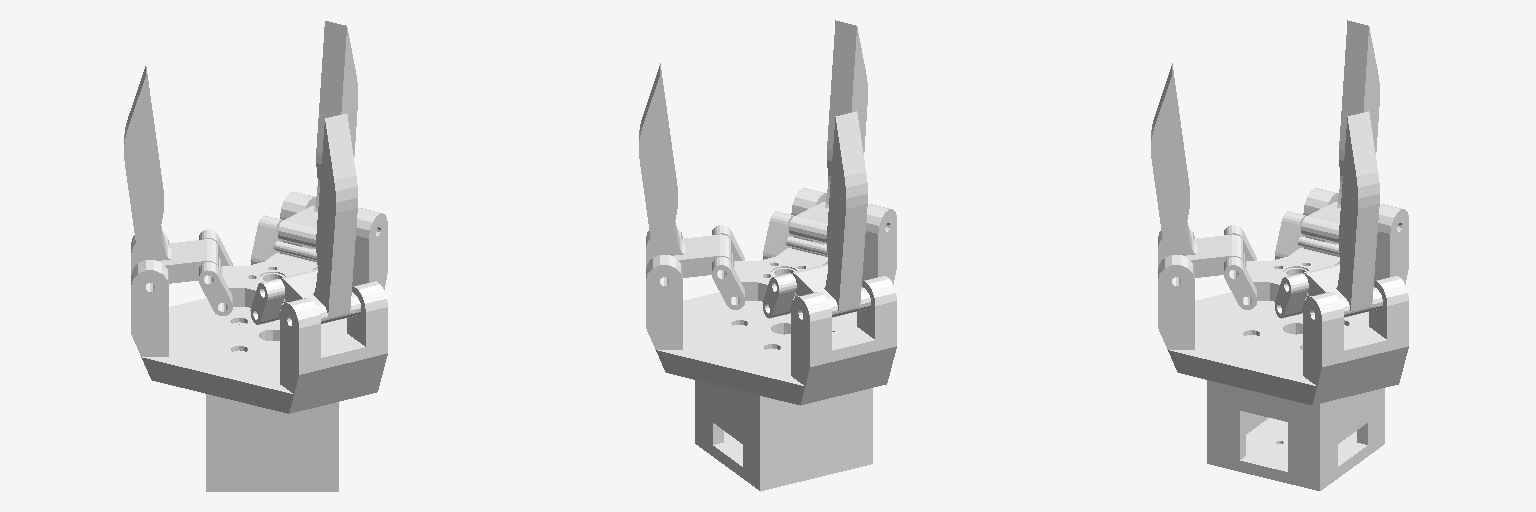
robot.urdf — threefingerv7:
<?xml version="1.0" encoding="utf-8"?>
<!-- This URDF was automatically created by SolidWorks to URDF Exporter! Originally created by [author] ([email redacted]) 
     Commit Version: 1.6.0-4-g7f85cfe  Build Version: 1.6.7995.38578
     For more information, please see http://wiki.ros.org/sw_urdf_exporter -->
<robot
  name="threefingerv7">
  <link name="root">
    <inertial>
      <mass value="0.01"/>
      <inertia ixx="1e-4" ixy="0.0" ixz="0.0" iyy="1e-4" iyz="0.0" izz="1e-4"/>
    </inertial>
  </link>
  <link name="root1">
    <inertial>
      <mass value="0.01"/>
      <inertia ixx="1e-4" ixy="0.0" ixz="0.0" iyy="1e-4" iyz="0.0" izz="1e-4"/>
    </inertial>
  </link>
  <link name="root2">
    <inertial>
      <mass value="0.01"/>
      <inertia ixx="1e-4" ixy="0.0" ixz="0.0" iyy="1e-4" iyz="0.0" izz="1e-4"/>
    </inertial>
  </link>
  <link name="root3">
    <inertial>
      <mass value="0.01"/>
      <inertia ixx="1e-4" ixy="0.0" ixz="0.0" iyy="1e-4" iyz="0.0" izz="1e-4"/>
    </inertial>
  </link>
  <link name="root4">
    <inertial>
      <mass value="0.01"/>
      <inertia ixx="1e-4" ixy="0.0" ixz="0.0" iyy="1e-4" iyz="0.0" izz="1e-4"/>
    </inertial>
  </link>
  <link name="root5">
    <inertial>
      <mass value="1"/>
      <inertia ixx="0.05" ixy="0.0" ixz="0.0" iyy="0.05" iyz="0.0" izz="0.05"/>
    </inertial>
  </link>
  <joint name="x_joint" type="prismatic">
    <parent link="root"/>
    <child link="root1"/>
    <axis xyz="1 0 0"/>
    <limit lower="-10" upper="10"/>
  </joint>
  <joint name="y_joint" type="prismatic">
    <parent link="root1"/>
    <child link="root2"/>
    <axis xyz="0 1 0"/>
    <limit lower="-10" upper="10"/>
  </joint>
  <joint name="z_joint" type="prismatic">
    <parent link="root2"/>
    <child link="root3"/>
    <axis xyz="0 0 1"/>
    <limit lower="-10" upper="10"/>
  </joint>
  <joint name="x_rotation_joint" type="continuous">
    <parent link="root3"/>
    <child link="root4"/>
    <axis xyz="1 0 0"/>
  </joint>
  <joint name="y_rotation_joint" type="continuous">
    <parent link="root4"/>
    <child link="root5"/>
    <axis xyz="0 1 0"/>
  </joint>
  <joint name="z_rotation_joint" type="continuous">
    <parent link="root5"/>
    <child link="base_link"/>
    <axis xyz="0 0 1"/>
  </joint>

  <link
    name="base_link">
    <inertial>
      <origin
        xyz="-0.000400704444301246 2.53834015733273E-05 -0.00850922709249782"
        rpy="0 0 0" />
      <mass
        value="0.158098732405424" />
      <inertia
        ixx="0.000154350646624654"
        ixy="-2.77272753195956E-07"
        ixz="-2.27161818492852E-06"
        iyy="0.000154004906445453"
        iyz="-7.99058211216347E-09"
        izz="0.000217118434161234" />
    </inertial>
    <visual>
      <origin
        xyz="0 0 0"
        rpy="0 0 0" />
      <geometry>
        <mesh
          filename="package://threefingerv7/meshes/base_link.STL" />
      </geometry>
      <material
        name="">
        <color
          rgba="1 1 1 1" />
      </material>
    </visual>
    <collision>
      <origin
        xyz="0 0 0"
        rpy="0 0 0" />
      <geometry>
        <mesh
          filename="package://threefingerv7/meshes/base_link.STL" />
      </geometry>
    </collision>
  </link>
  <link
    name="move_link">
    <inertial>
      <origin
        xyz="-1.38840313242298E-18 1.1767319360884E-17 -0.00419243214234177"
        rpy="0 0 0" />
      <mass
        value="0.0085021271877303" />
      <inertia
        ixx="9.76418874057016E-07"
        ixy="-1.05879118406788E-22"
        ixz="3.53801734527502E-23"
        iyy="9.7641887405701E-07"
        iyz="5.4830223945276E-23"
        izz="1.86965817859979E-06" />
    </inertial>
    <visual>
      <origin
        xyz="0 0 0"
        rpy="0 0 0" />
      <geometry>
        <mesh
          filename="package://threefingerv7/meshes/move_link.STL" />
      </geometry>
      <material
        name="">
        <color
          rgba="1 1 1 1" />
      </material>
    </visual>
    <collision>
      <origin
        xyz="0 0 0"
        rpy="0 0 0" />
      <geometry>
        <mesh
          filename="package://threefingerv7/meshes/move_link.STL" />
      </geometry>
    </collision>
  </link>
  <joint
    name="move_joint"
    type="prismatic">
    <origin
      xyz="0 0 0.025087"
      rpy="0 0 0" />
    <parent
      link="base_link" />
    <child
      link="move_link" />
    <axis
      xyz="0 0 -1" />
    <limit
      lower="-0.01"
      upper="0.02"
      effort="5000"
      velocity="2" />
  </joint>
  <link
    name="11_link">
    <inertial>
      <origin
        xyz="-0.0064999999999939 -5.07406616723216E-15 0.015"
        rpy="0 0 0" />
      <mass
        value="0.0023425840131754" />
      <inertia
        ixx="4.99013749037845E-07"
        ixy="1.32348898008484E-23"
        ixz="-7.74228380420826E-24"
        iyy="5.48312815441792E-07"
        iyz="-4.68478650567877E-23"
        izz="7.32310540795453E-08" />
    </inertial>
    <visual>
      <origin
        xyz="0 0 0"
        rpy="0 0 0" />
      <geometry>
        <mesh
          filename="package://threefingerv7/meshes/11_link.STL" />
      </geometry>
      <material
        name="">
        <color
          rgba="1 1 1 1" />
      </material>
    </visual>
    <collision>
      <origin
        xyz="0 0 0"
        rpy="0 0 0" />
      <geometry>
        <mesh
          filename="package://threefingerv7/meshes/11_link.STL" />
      </geometry>
    </collision>
  </link>
  <joint
    name="11_joint"
    type="revolute">
    <origin
      xyz="-0.0093875 0.02274 -0.004"
      rpy="1.5708 1.1355 -0.5236" />
    <parent
      link="move_link" />
    <child
      link="11_link" />
    <axis
      xyz="0 0 -1" />
    <limit
      lower="-1.57"
      upper="1.57"
      effort="5000"
      velocity="2" />
    <!-- <mimic
      joint="move_joint"
      multiplier="-35"
      offset="0" /> -->
  </joint>
  <!-- <link
    name="12_link">
    <inertial>
      <origin
        xyz="-0.0293208969248166 -0.00876107376233067 0.0190000001135646"
        rpy="0 0 0" />
      <mass
        value="0.0122579255984349" />
      <inertia
        ixx="9.84660892016069E-07"
        ixy="1.31799544484654E-06"
        ixz="-2.57676349373328E-14"
        iyy="7.20160465350243E-06"
        iyz="1.09652704731506E-14"
        izz="7.77283391142852E-06" />
    </inertial>
    <visual>
      <origin
        xyz="0 0 0"
        rpy="0 0 0" />
      <geometry>
        <mesh
          filename="package://threefingerv7/meshes/12_link.STL" />
      </geometry>
      <material
        name="">
        <color
          rgba="1 1 1 1" />
      </material>
    </visual>
    <collision>
      <origin
        xyz="0 0 0"
        rpy="0 0 0" />
      <geometry>
        <mesh
          filename="package://threefingerv7/meshes/12_link.STL" />
      </geometry>
    </collision>
  </link> -->
  <!-- <joint
    name="12_joint"
    type="revolute">
    <origin
      xyz="-0.013 0 -0.004"
      rpy="0 0 0" />
    <parent
      link="11_link" />
    <child
      link="12_link" />
    <axis
      xyz="0 0 -1" />
    <limit
      lower="-1.57"
      upper="1.57"
      effort="5000"
      velocity="2" />
    <mimic
      joint="11_joint"
      multiplier="1"
      offset="0" />
  </joint> -->
  <link
    name="21_link">
    <inertial>
      <origin
        xyz="0.00649999999999391 -5.00901403688303E-15 -0.019"
        rpy="0 0 0" />
      <mass
        value="0.0023425840131754" />
      <inertia
        ixx="4.99013749037844E-07"
        ixy="-5.9557004103818E-23"
        ixz="-1.3648480107125E-22"
        iyy="5.48312815441791E-07"
        iyz="-8.27180612553028E-24"
        izz="7.32310540795452E-08" />
    </inertial>
    <visual>
      <origin
        xyz="0 0 0"
        rpy="0 0 0" />
      <geometry>
        <mesh
          filename="package://threefingerv7/meshes/21_link.STL" />
      </geometry>
      <material
        name="">
        <color
          rgba="1 1 1 1" />
      </material>
    </visual>
    <collision>
      <origin
        xyz="0 0 0"
        rpy="0 0 0" />
      <geometry>
        <mesh
          filename="package://threefingerv7/meshes/21_link.STL" />
      </geometry>
    </collision>
  </link>
  <joint
    name="21_joint"
    type="revolute">
    <origin
      xyz="-0.019 -0.0195 -0.004"
      rpy="1.5708 -1.1355 -1.5708" />
    <parent
      link="move_link" />
    <child
      link="21_link" />
    <axis
      xyz="0 0 1" />
    <limit
      lower="-1.57"
      upper="1.57"
      effort="5000"
      velocity="2" />
    <!-- <mimic
      joint="move_joint"
      multiplier="-35"
      offset="0" /> -->
  </joint>
  <!-- <link
    name="22_link">
    <inertial>
      <origin
        xyz="0.0293216343766863 -0.00876108435078396 -0.0190000103494336"
        rpy="0 0 0" />
      <mass
        value="0.0122572499897457" />
      <inertia
        ixx="9.84650226311451E-07"
        ixy="-1.31798330895562E-06"
        ixz="-1.09743409174181E-12"
        iyy="7.20145547037363E-06"
        iyz="3.4075082013164E-13"
        izz="7.77268089083732E-06" />
    </inertial>
    <visual>
      <origin
        xyz="0 0 0"
        rpy="0 0 0" />
      <geometry>
        <mesh
          filename="package://threefingerv7/meshes/22_link.STL" />
      </geometry>
      <material
        name="">
        <color
          rgba="1 1 1 1" />
      </material>
    </visual>
    <collision>
      <origin
        xyz="0 0 0"
        rpy="0 0 0" />
      <geometry>
        <mesh
          filename="package://threefingerv7/meshes/22_link.STL" />
      </geometry>
    </collision>
  </link> -->
  <!-- <joint
    name="22_joint"
    type="revolute">
    <origin
      xyz="0.013 0 0"
      rpy="0 0 0" />
    <parent
      link="21_link" />
    <child
      link="22_link" />
    <axis
      xyz="0 0 1" />
    <limit
      lower="-1.57"
      upper="1.57"
      effort="5000"
      velocity="2" />
    <mimic
      joint="21_joint"
      multiplier="1"
      offset="0" />
  </joint> -->
  <link
    name="31_link">
    <inertial>
      <origin
        xyz="-0.00649999999999392 -5.04370850640257E-15 0.019"
        rpy="0 0 0" />
      <mass
        value="0.0023425840131754" />
      <inertia
        ixx="4.99013749037845E-07"
        ixy="3.30872245021211E-24"
        ixz="2.23338765389317E-23"
        iyy="5.48312815441792E-07"
        iyz="2.15066959263787E-22"
        izz="7.32310540795452E-08" />
    </inertial>
    <visual>
      <origin
        xyz="0 0 0"
        rpy="0 0 0" />
      <geometry>
        <mesh
          filename="package://threefingerv7/meshes/31_link.STL" />
      </geometry>
      <material
        name="">
        <color
          rgba="1 1 1 1" />
      </material>
    </visual>
    <collision>
      <origin
        xyz="0 0 0"
        rpy="0 0 0" />
      <geometry>
        <mesh
          filename="package://threefingerv7/meshes/31_link.STL" />
      </geometry>
    </collision>
  </link>
  <joint
    name="31_joint"
    type="revolute">
    <origin
      xyz="0.026387 -0.0067045 -0.004"
      rpy="1.5708 1.1355 -2.618" />
    <parent
      link="move_link" />
    <child
      link="31_link" />
    <axis
      xyz="0 0 -1" />
    <limit
      lower="-1.57"
      upper="1.57"
      effort="5000"
      velocity="2" />
    <mimic
      joint="move_joint"
      multiplier="-35"
      offset="0" />
  </joint>
  <!-- <link
    name="32_link">
    <inertial>
      <origin
        xyz="0.0293216345242573 -0.00876108429611774 -0.0189999898761313"
        rpy="0 0 0" />
      <mass
        value="0.0122572498826079" />
      <inertia
        ixx="9.84650224489368E-07"
        ixy="-1.31798329819406E-06"
        ixz="1.04568287397069E-12"
        iyy="7.20145543798657E-06"
        iyz="-3.61695921355528E-13"
        izz="7.77268085824629E-06" />
    </inertial>
    <visual>
      <origin
        xyz="0 0 0"
        rpy="0 0 0" />
      <geometry>
        <mesh
          filename="package://threefingerv7/meshes/32_link.STL" />
      </geometry>
      <material
        name="">
        <color
          rgba="1 1 1 1" />
      </material>
    </visual>
    <collision>
      <origin
        xyz="0 0 0"
        rpy="0 0 0" />
      <geometry>
        <mesh
          filename="package://threefingerv7/meshes/32_link.STL" />
      </geometry>
    </collision>
  </link> -->
  <!-- <joint
    name="32_joint"
    type="revolute">
    <origin
      xyz="-0.013 0 0"
      rpy="3.1416 0 3.1416" />
    <parent
      link="31_link" />
    <child
      link="32_link" />
    <axis
      xyz="0 0 1" />
    <limit
      lower="-1.57"
      upper="1.57"
      effort="5000"
      velocity="2" />
    <mimic
      joint="31_joint"
      multiplier="1"
      offset="0" />
  </joint> -->
  <link
    name="12_link2">
    <inertial>
      <origin
        xyz="-0.0257672114540679 -0.00251198810799962 -0.0200000001135646"
        rpy="0 0 0" />
      <mass
        value="0.0122579255984349" />
      <inertia
        ixx="1.08217608123952E-06"
        ixy="1.5276940884221E-06"
        ixz="2.79885195806309E-14"
        iyy="7.10408946427898E-06"
        iyz="-9.22469868117888E-16"
        izz="7.77283391142852E-06" />
    </inertial>
    <visual>
      <origin
        xyz="0 0 0"
        rpy="0 0 0" />
      <geometry>
        <mesh
          filename="package://threefingerv7/meshes/12_link2.STL" />
      </geometry>
      <material
        name="">
        <color
          rgba="1 1 1 1" />
      </material>
    </visual>
    <collision>
      <origin
        xyz="0 0 0"
        rpy="0 0 0" />
      <geometry>
        <mesh
          filename="package://threefingerv7/meshes/12_link2.STL" />
      </geometry>
    </collision>
  </link>
  <joint
    name="12_joint2"
    type="revolute">
    <origin
      xyz="-0.031397 0.041221 0.03"
      rpy="1.0472 1.5708 2.093" />
    <parent
      link="base_link" />
    <child
      link="12_link2" />
    <axis
      xyz="0 0 -1" />
    <limit
      lower="-1.57"
      upper="1.57"
      effort="5000"
      velocity="2" />
    <!-- <mimic
      joint="move_joint"
      multiplier="-68"
      offset="0" /> -->
  </joint>
  <link
    name="22_link2">
    <inertial>
      <origin
        xyz="-0.0257678756757427 -0.00251166755075601 -0.0200000103494336"
        rpy="0 0 0" />
      <mass
        value="0.0122572499897457" />
      <inertia
        ixx="1.08215006735288E-06"
        ixy="1.52764894748895E-06"
        ixz="8.51419242627871E-13"
        iyy="7.1039556293322E-06"
        iyz="-7.71724029513573E-13"
        izz="7.77268089083732E-06" />
    </inertial>
    <visual>
      <origin
        xyz="0 0 0"
        rpy="0 0 0" />
      <geometry>
        <mesh
          filename="package://threefingerv7/meshes/22_link2.STL" />
      </geometry>
      <material
        name="">
        <color
          rgba="1 1 1 1" />
      </material>
    </visual>
    <collision>
      <origin
        xyz="0 0 0"
        rpy="0 0 0" />
      <geometry>
        <mesh
          filename="package://threefingerv7/meshes/22_link2.STL" />
      </geometry>
    </collision>
  </link>
  <joint
    name="22_joint2"
    type="revolute">
    <origin
      xyz="-0.02 -0.047801 0.03"
      rpy="3.1416 1.5708 0" />
    <parent
      link="base_link" />
    <child
      link="22_link2" />
    <axis
      xyz="0 0 -1" />
    <limit
      lower="-1.57"
      upper="1.57"
      effort="5000"
      velocity="2" />
    <!-- <mimic
      joint="move_joint"
      multiplier="-68"
      offset="0" /> -->
  </joint>
  <link
    name="32_link2">
    <inertial>
      <origin
        xyz="-0.0257678758326022 -0.00251166753809726 -0.0199999898761313"
        rpy="0 0 0" />
      <mass
        value="0.0122572498826079" />
      <inertia
        ixx="1.0821500683257E-06"
        ixy="1.52764894273758E-06"
        ixz="-7.9566191835571E-13"
        iyy="7.10395559415024E-06"
        iyz="7.68894483766018E-13"
        izz="7.77268085824629E-06" />
    </inertial>
    <visual>
      <origin
        xyz="0 0 0"
        rpy="0 0 0" />
      <geometry>
        <mesh
          filename="package://threefingerv7/meshes/32_link2.STL" />
      </geometry>
      <material
        name="">
        <color
          rgba="1 1 1 1" />
      </material>
    </visual>
    <collision>
      <origin
        xyz="0 0 0"
        rpy="0 0 0" />
      <geometry>
        <mesh
          filename="package://threefingerv7/meshes/32_link2.STL" />
      </geometry>
    </collision>
  </link>
  <joint
    name="32_joint2"
    type="revolute">
    <origin
      xyz="0.051397 0.0065801 0.03"
      rpy="1.0472 1.5708 0" />
    <parent
      link="base_link" />
    <child
      link="32_link2" />
    <axis
      xyz="0 0 -1" />
    <limit
      lower="-1.57"
      upper="1.57"
      effort="5000"
      velocity="2" />
    <!-- <mimic
      joint="move_joint"
      multiplier="-68"
      offset="0" /> -->
  </joint>
</robot>

--- What the picture shows (computed from the rendered views, not written in the file) ---
Views: 3 orthographic renders of the robot side by side, from view 1: azimuth 30°, elevation 25°; view 2: azimuth 150°, elevation 25°; view 3: azimuth 270°, elevation 25°.
Model threefingerv7 with 14 links and 13 joints (6 revolute, 3 continuous, 4 prismatic), rooted at root, posed every joint at zero.
Links seen in each view (by area): view 1: base_link, 22_link2, 12_link2, 32_link2, move_link, 11_link, 31_link, 21_link; view 2: base_link, 12_link2, 32_link2, 22_link2, move_link, 31_link, 21_link, 11_link; view 3: base_link, 32_link2, 22_link2, 12_link2, move_link, 21_link, 11_link, 31_link.
Boxes of the visible links, left/top/right/bottom form: base_link: left=131, top=192, right=387, bottom=491; 22_link2: left=280, top=113, right=360, bottom=323; 12_link2: left=124, top=66, right=218, bottom=283; 32_link2: left=278, top=21, right=357, bottom=248; move_link: left=221, top=253, right=317, bottom=319; 11_link: left=199, top=229, right=232, bottom=315; 31_link: left=250, top=215, right=316, bottom=264; 21_link: left=250, top=279, right=286, bottom=324; base_link: left=646, top=188, right=896, bottom=491; 12_link2: left=791, top=111, right=870, bottom=317; 32_link2: left=639, top=63, right=731, bottom=277; 22_link2: left=789, top=20, right=867, bottom=243; move_link: left=734, top=248, right=827, bottom=313; 31_link: left=712, top=225, right=744, bottom=309; 21_link: left=763, top=211, right=827, bottom=259; 11_link: left=763, top=273, right=797, bottom=318; base_link: left=1158, top=188, right=1408, bottom=490; 32_link2: left=1303, top=111, right=1382, bottom=317; 22_link2: left=1151, top=63, right=1243, bottom=277; 12_link2: left=1301, top=20, right=1379, bottom=243; move_link: left=1246, top=248, right=1339, bottom=313; 21_link: left=1224, top=225, right=1256, bottom=309; 11_link: left=1275, top=211, right=1339, bottom=259; 31_link: left=1275, top=273, right=1309, bottom=318.
Bounding box of the posed robot: 0.1158 × 0.103 × 0.1695 m (x, y, z).
8 mesh visuals loaded from 8 distinct referenced files (8 binary STL).